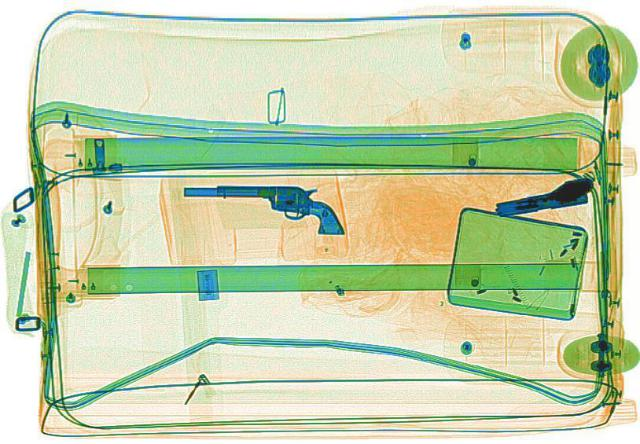Gun: (178, 179, 352, 233), (486, 173, 600, 220)
